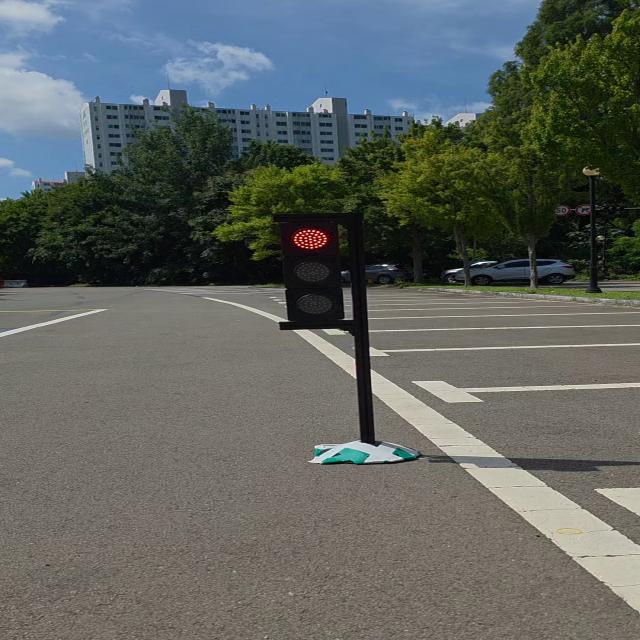red: (276, 216, 346, 324)
